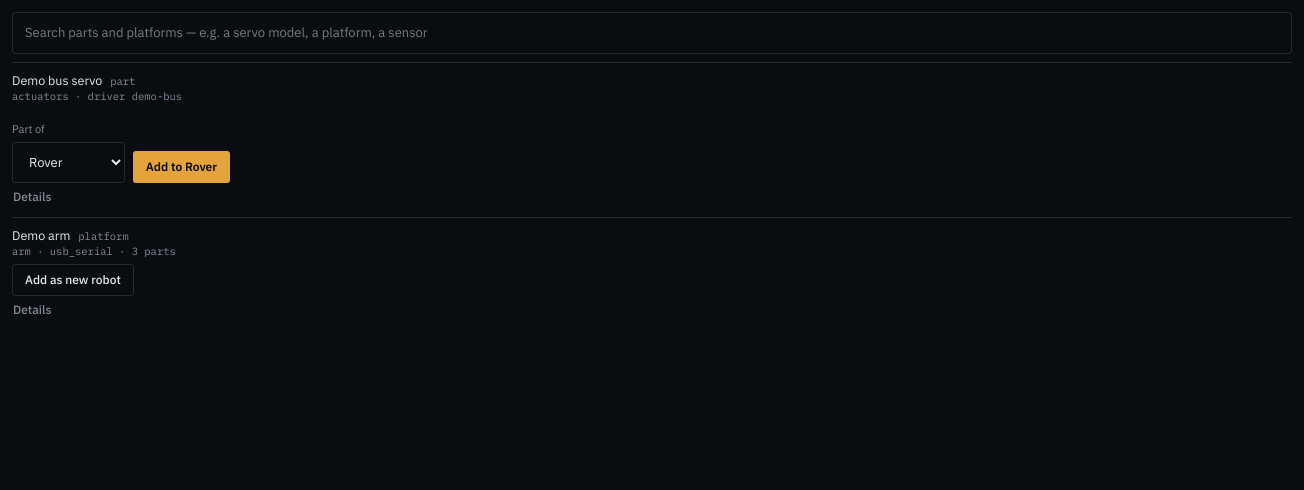
Scenario: opens a details disclosure that lazily reads the definition and lists its specs
Expected: the list item "Demo bus servo" is shown, [12, 62, 1292, 216]
Click the button "Details" below "Demo bus servo".
click(32, 196)  # box [12, 184, 52, 208]
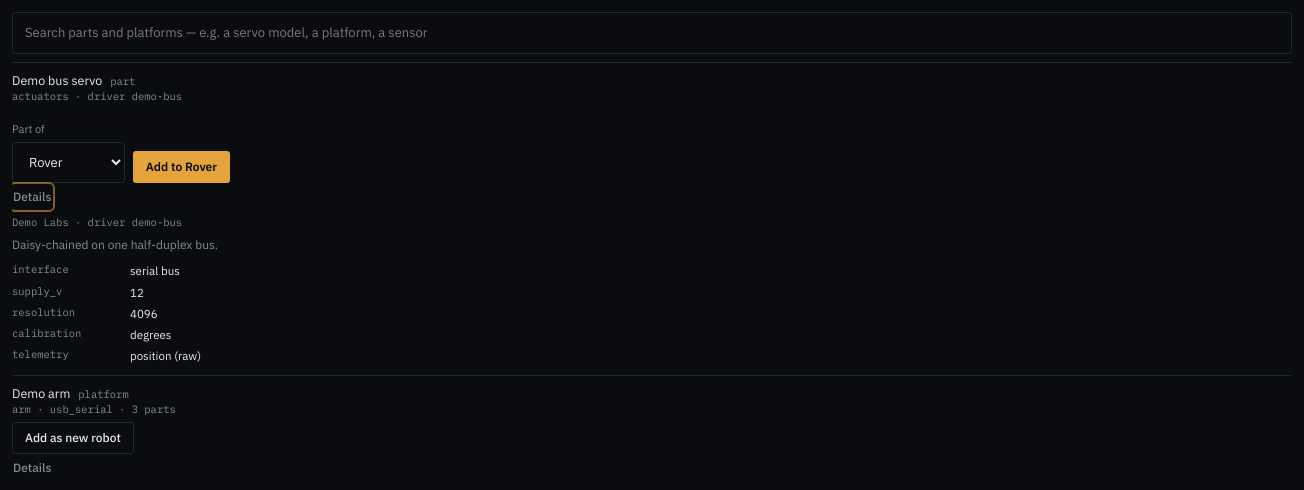
Result: the text "interface" is shown at [12, 262, 69, 276]
Result: the text "serial bus" is shown at [130, 262, 180, 280]
Result: the text "resolution" is shown at [12, 305, 75, 319]
